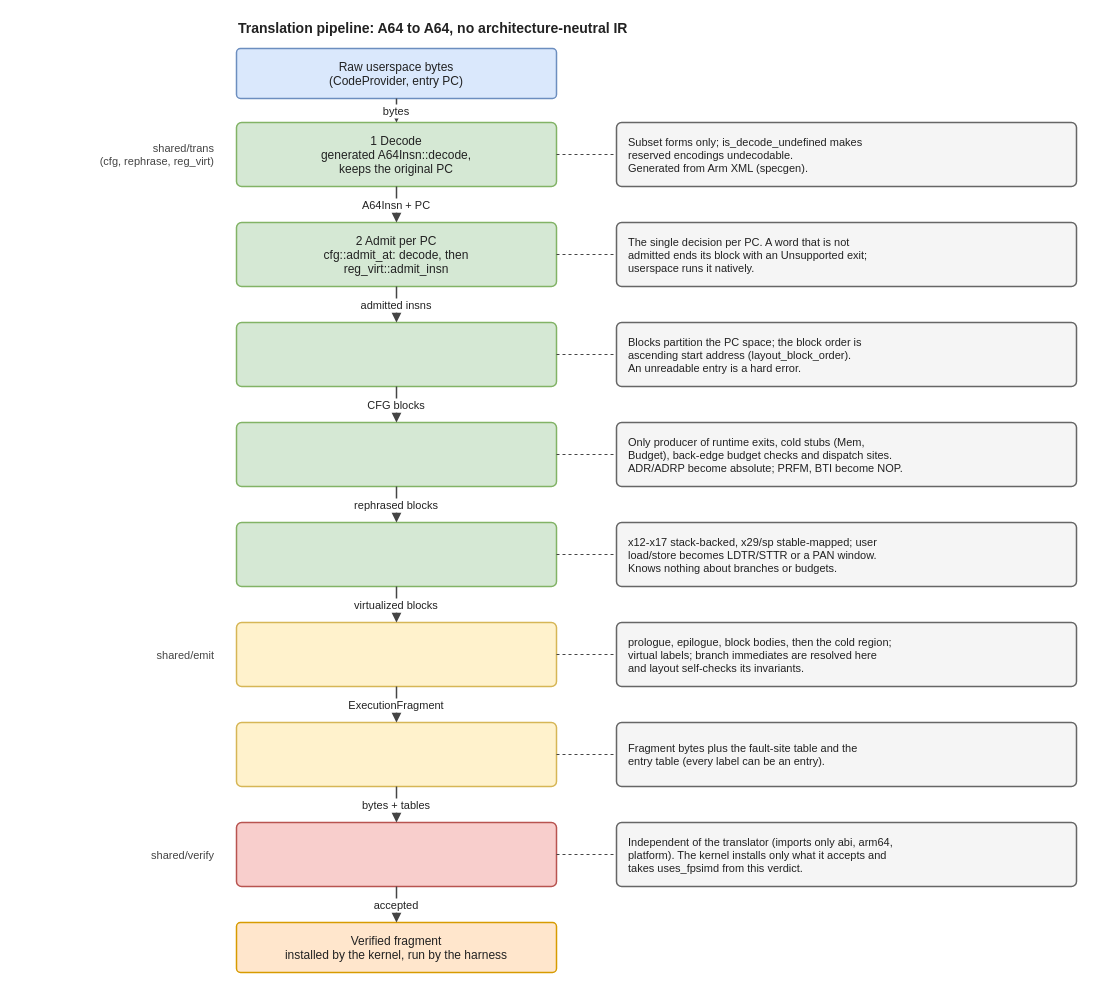
This 1093x989 diagram has some shape labels left out. The shapes that lost their labels are listed below. From the top down, each one's centre as x and y in pixels, then its label:
At point 396,354: "3 Build the CFG reachable blocks from the entry PC, via a CodeProvider".
At point 396,454: "4 Rephrase semantic boundary instructions, still typed A64".
At point 396,554: "5 Register virtualization RewritePlan::build (separate structured pass)".
At point 396,654: "6 Layout one ExecutionFragment".
At point 396,754: "7 Emit bytes via generated A64Insn::encode()".
At point 396,854: "8 Decode and verify shared/verify (V3), run on the emitted bytes again".
